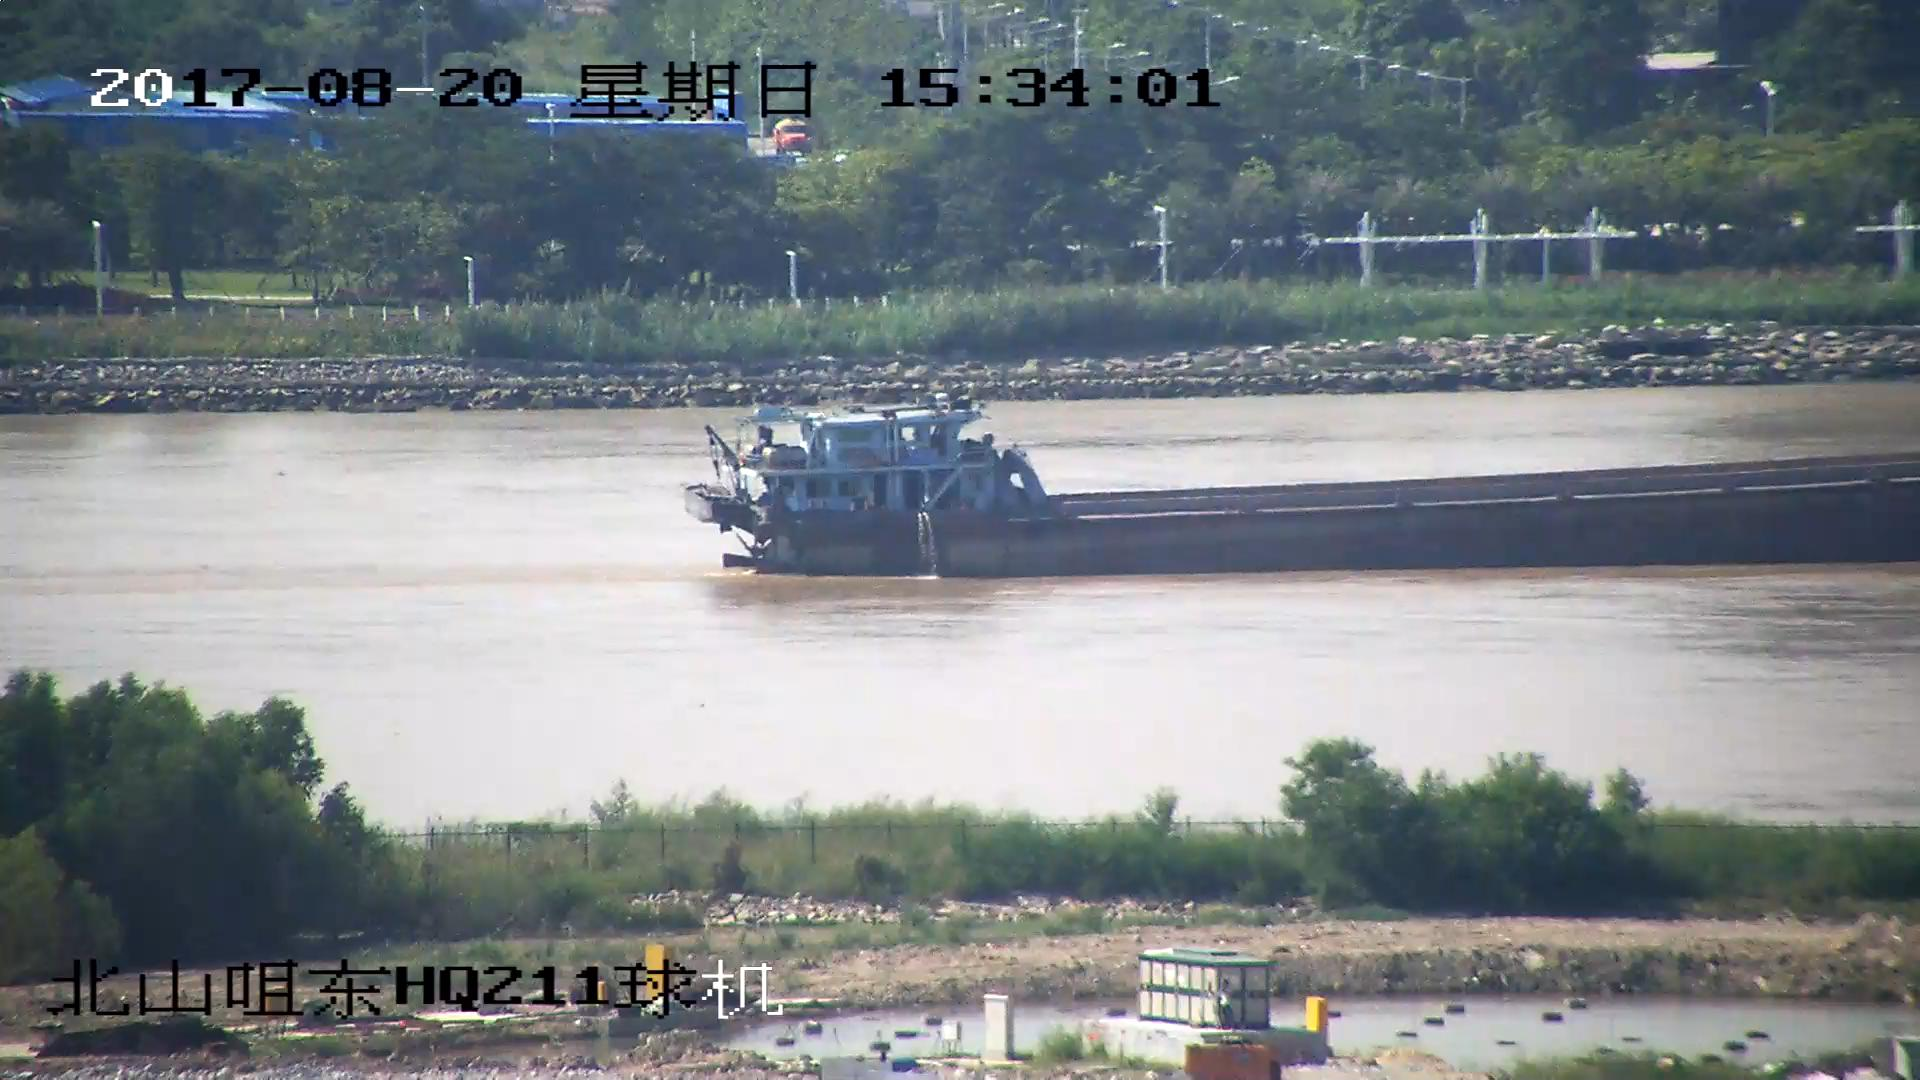bulk cargo carrier: (674, 401, 1920, 580)
